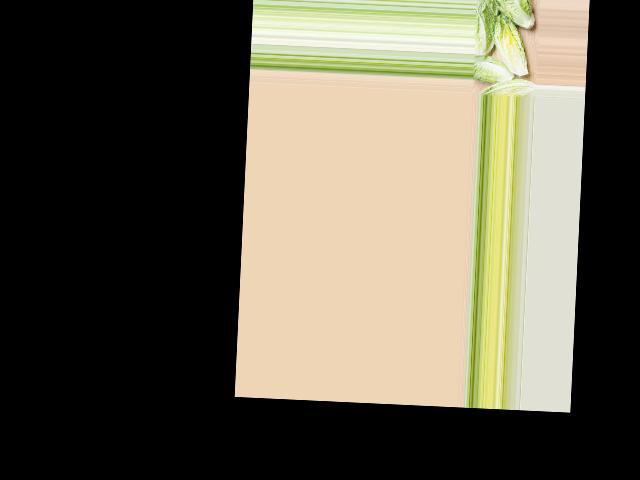lettuce: (479, 75, 535, 98)
